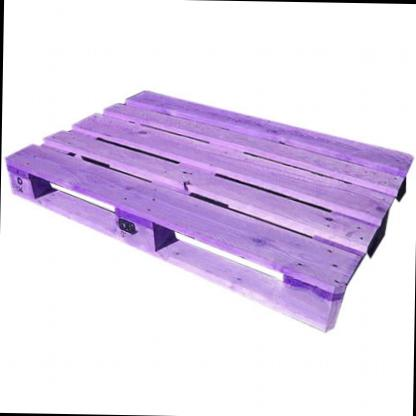BoxFace: (5, 85, 413, 339)
